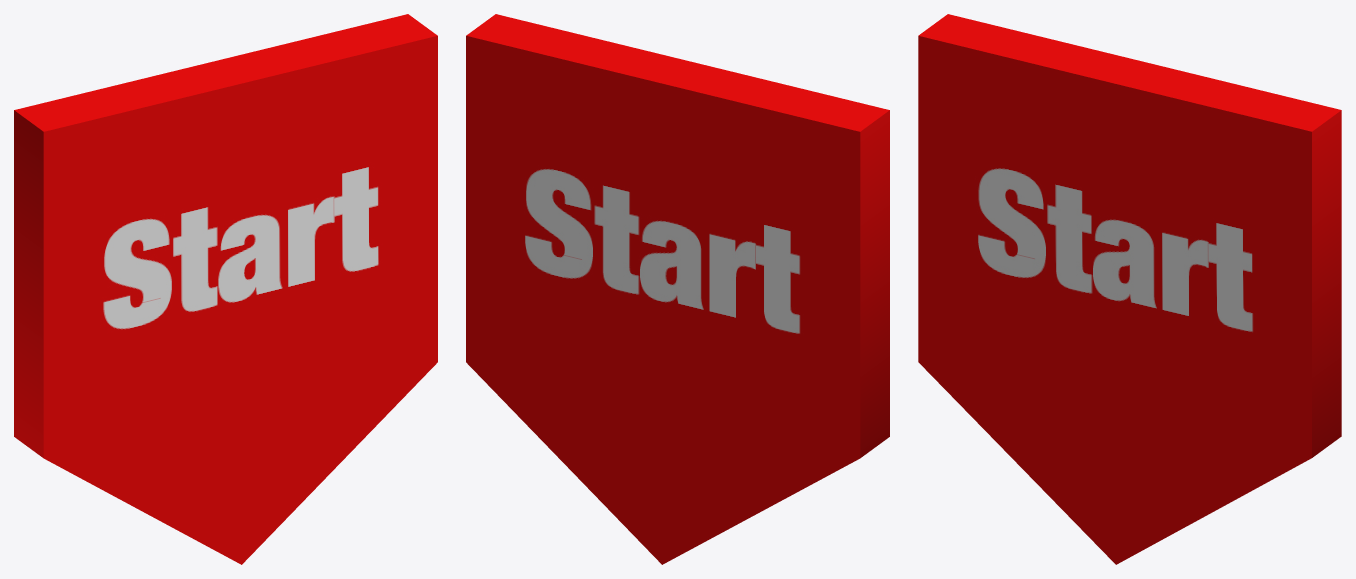
File: red start marker.fbx
3 renders of one model, left to right at view 1: azimuth 30°, elevation 25°; view 2: azimuth 150°, elevation 25°; view 3: azimuth 330°, elevation 25°, orthographic.
Parts seen in each view (by area): view 1: pCube1; view 2: pCube1; view 3: pCube1.
Part boxes in pixels (x1=…): pCube1: x1=14, y1=14, x2=437, y2=564; pCube1: x1=466, y1=14, x2=889, y2=564; pCube1: x1=918, y1=14, x2=1341, y2=564.
Size of the model in its own units: 3.96 by 4.62 by 0.5166.
Materials: 1 (1 with a texture image).
